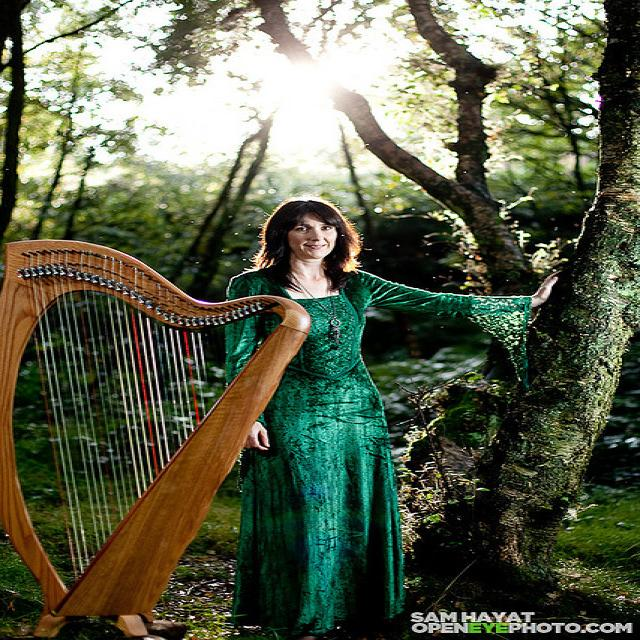harp: (0, 233, 319, 640)
